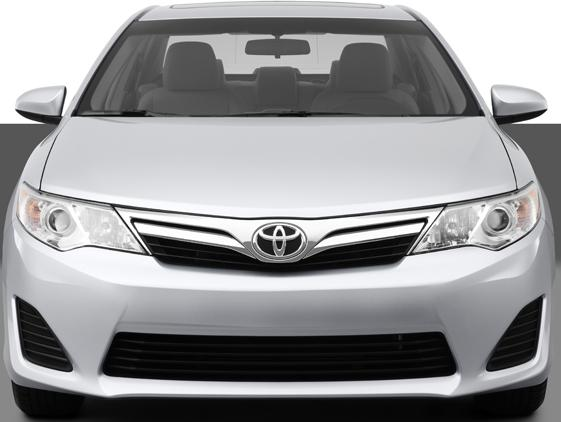front_view: (17, 169, 537, 409)
headlight: (14, 179, 149, 258)
